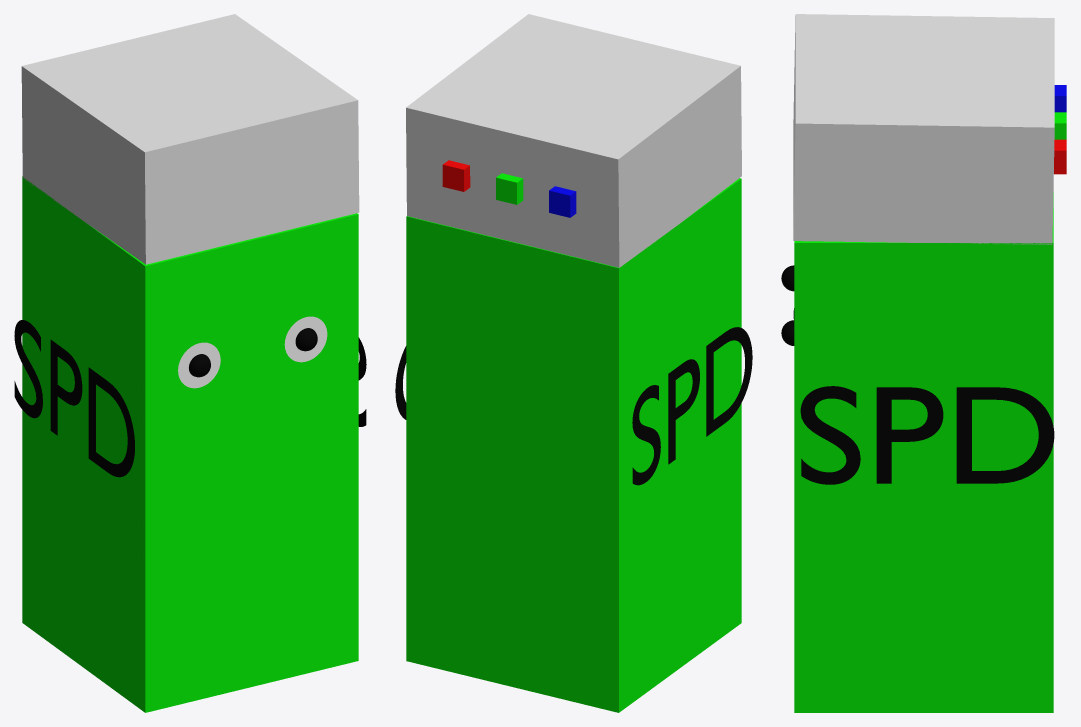
The picture shows the model from 3 angles, left to right: view 1: azimuth 30°, elevation 25°; view 2: azimuth 150°, elevation 25°; view 3: azimuth 270°, elevation 25°; orthographic projection. The views are drawn at different scales.
Visible parts, largest first — view 1: Cube, Cube.001, Text, rEye, lEye; view 2: Cube, Cube.001, Text, Cube.002, Cube.003, Cube.004; view 3: Cube, Cube.001, Text.001, Cube.002.
Part boxes in pixels (x1,y1,x2,y2): Cube: [22, 176, 358, 712]; Cube.001: [21, 14, 359, 264]; Text: [14, 320, 134, 477]; rEye: [284, 316, 327, 362]; lEye: [178, 342, 220, 388]; Cube: [406, 178, 741, 712]; Cube.001: [406, 14, 741, 267]; Text: [632, 327, 752, 485]; Cube.002: [442, 160, 470, 191]; Cube.003: [496, 173, 523, 204]; Cube.004: [549, 186, 576, 217]; Cube: [794, 192, 1053, 712]; Cube.001: [793, 14, 1054, 244]; Text.001: [800, 386, 1054, 484]; Cube.002: [1054, 139, 1066, 174].
Size of the model in its own units: 2.2 by 5.02 by 2.2.
